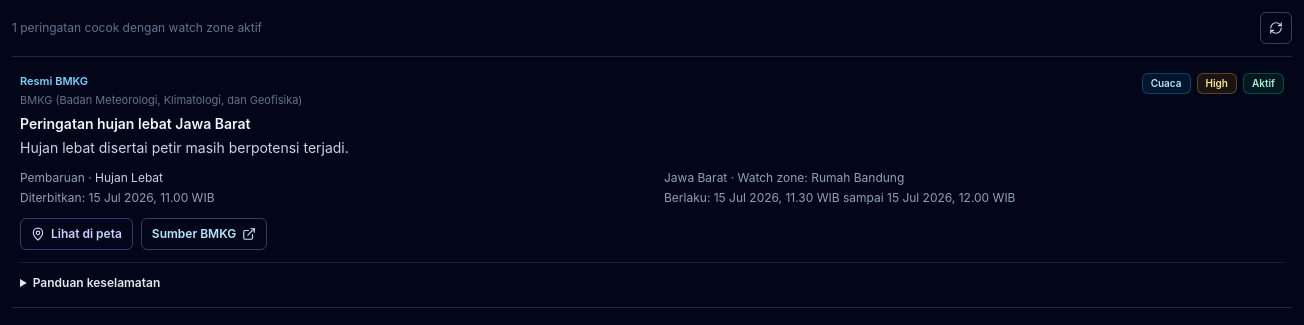
Test case: ActiveWarningsTab › ages out cached rows after a failed refresh and cleans up its minute timer
Step 1. Click the button named "Perbarui peringatan aktif" → {"x": 1276, "y": 28}, box [1260,12,1292,44]
Wait 60000 ms
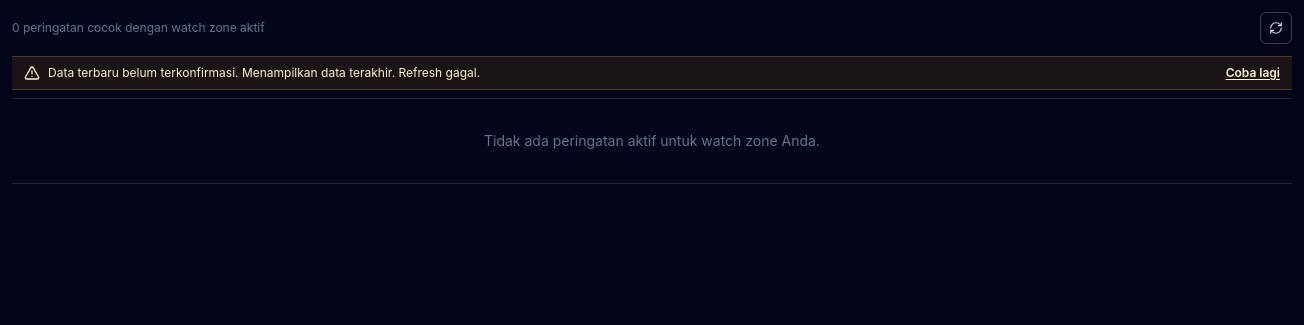
expect the text "Data terbaru belum terkonfirmasi" is shown: met, box [48,65,398,80]
expect the heading "Peringatan hujan lebat Jawa Barat" is gone: met
expect the text "Tidak ada peringatan aktif untuk watch zone Anda." is shown: met, box [12,98,1292,184]
